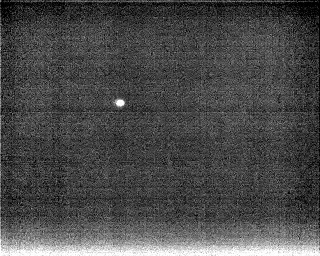AIRPLANE: (114, 97, 127, 109)
